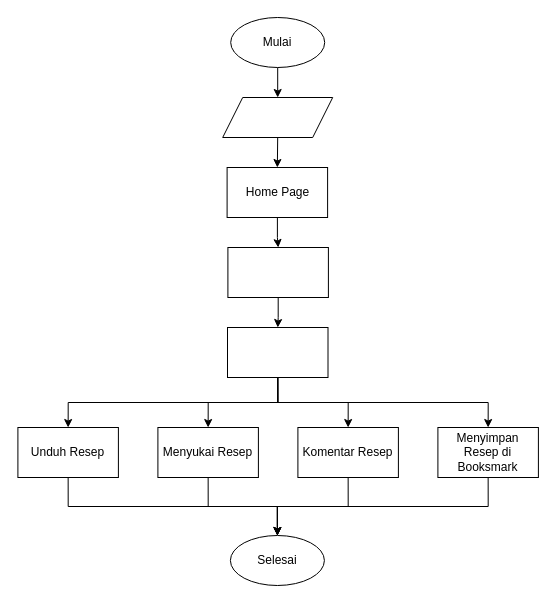
Some shapes in this 556 by 603 pixel diagram are drawn without their labels. Each missing label, with the centre of its shape:
"Login" belongs at (277,117).
"Melihat Detail Resep" belongs at (277,352).
"Memilih Resep" belongs at (277,272).
